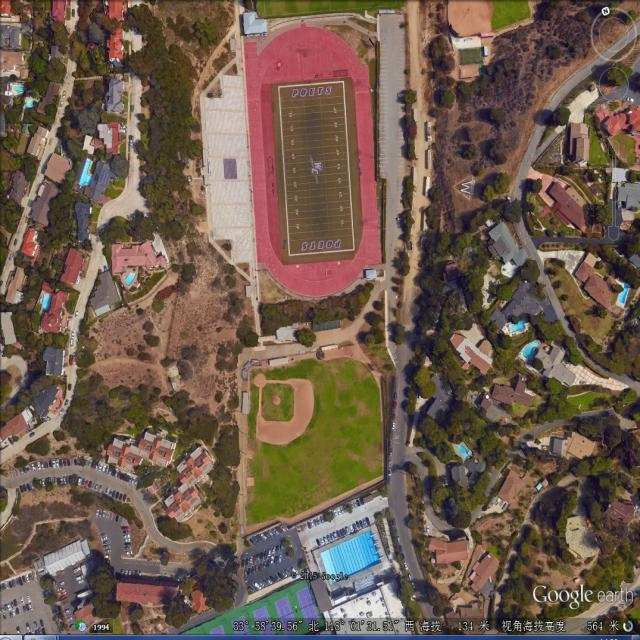playground: (241, 25, 387, 297)
